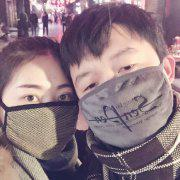OK: (74, 47, 176, 149), (5, 79, 82, 156)
